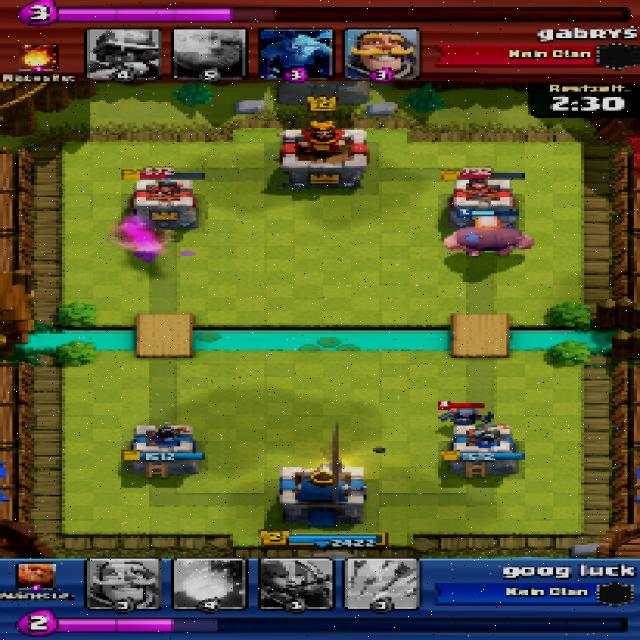Enemy-MiniPEKKA: (436, 407, 494, 427)
Player-Giant: (441, 216, 534, 255)
